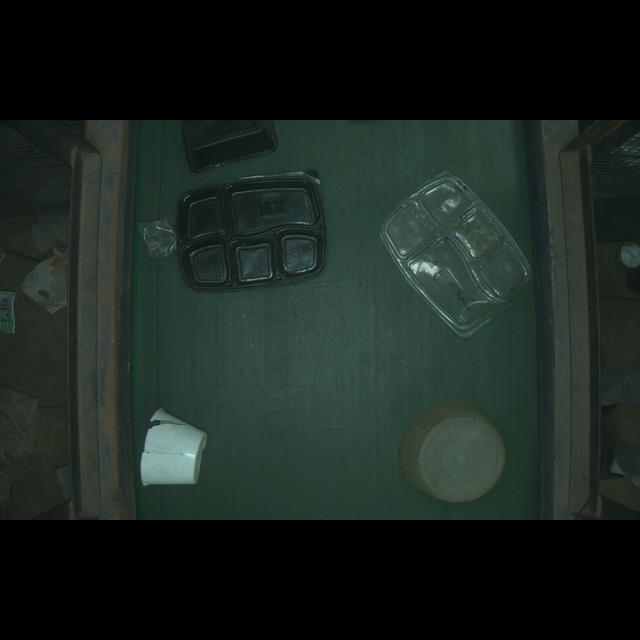mix rigid: (375, 164, 533, 336), (178, 172, 330, 295), (397, 389, 513, 507), (134, 397, 210, 504), (136, 216, 178, 270)
